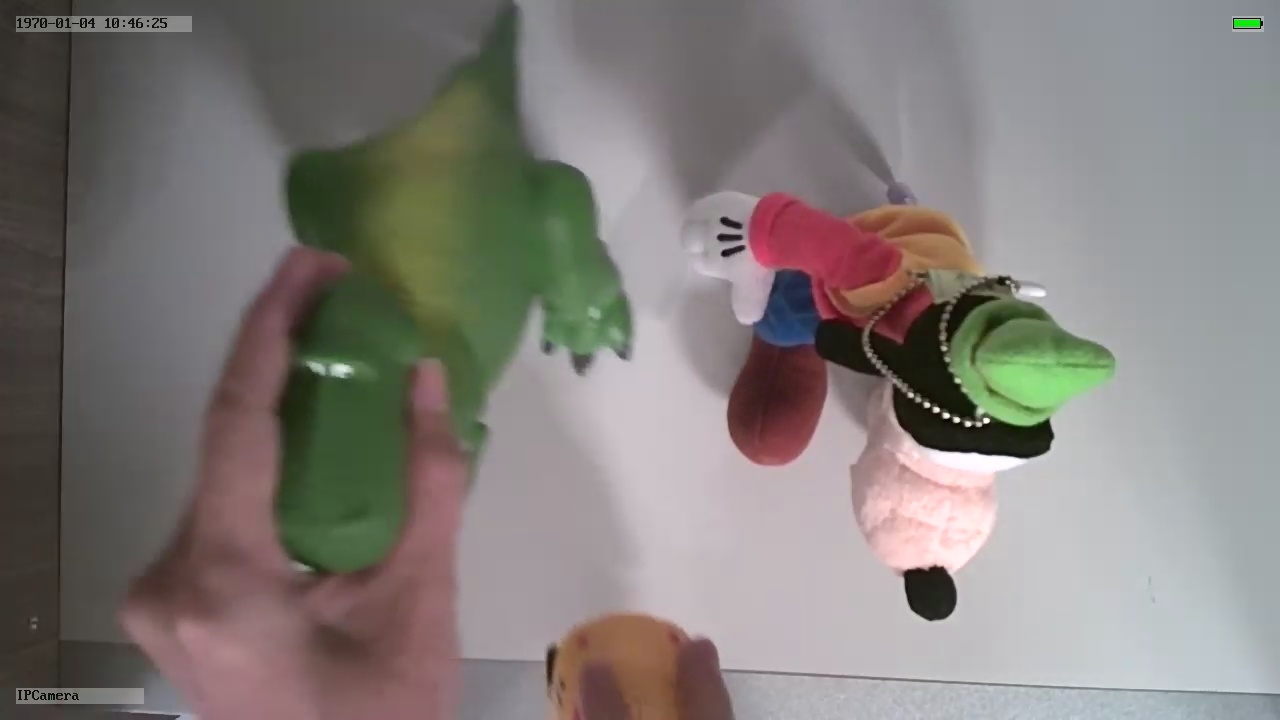goofy: (674, 183, 1124, 630)
